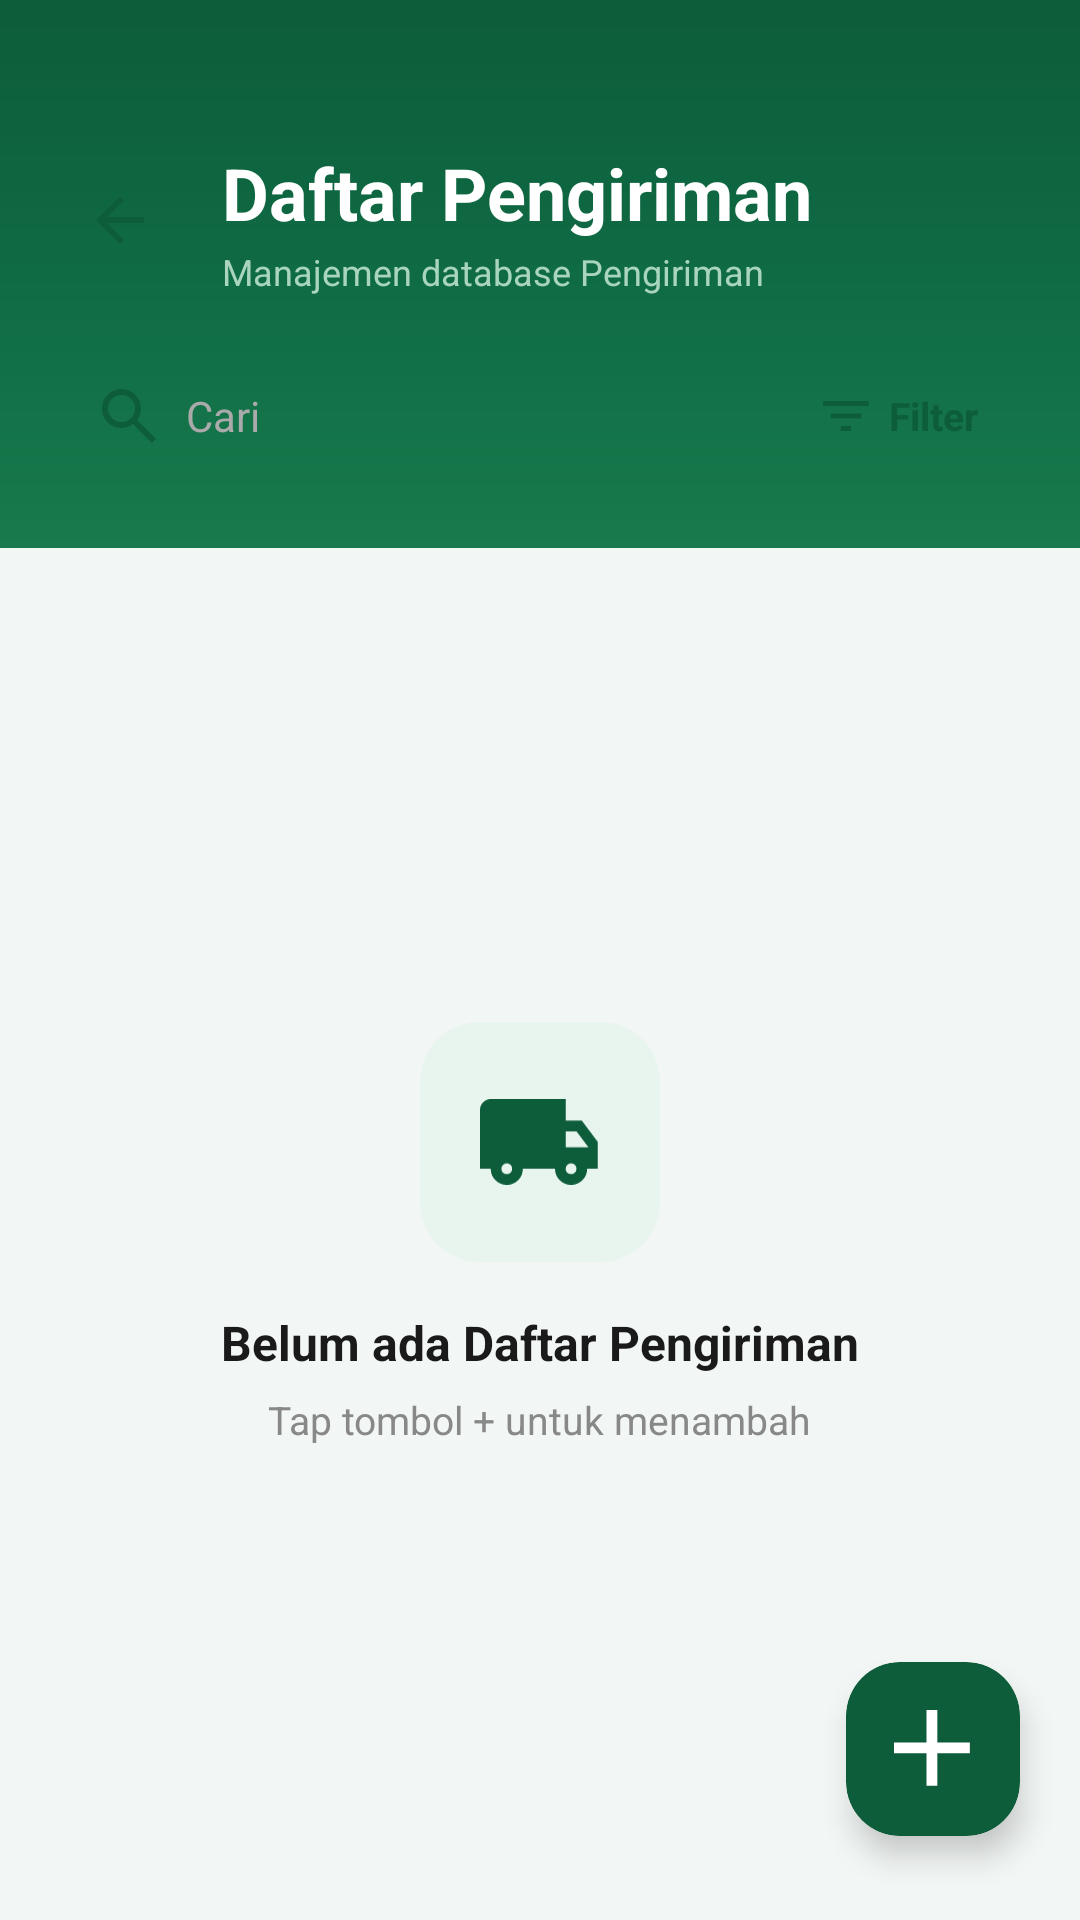

Icon click points for this 1080 × 1920 phone screenshot, format (x,y):
Tambah Pengiriman: (932,1748)
